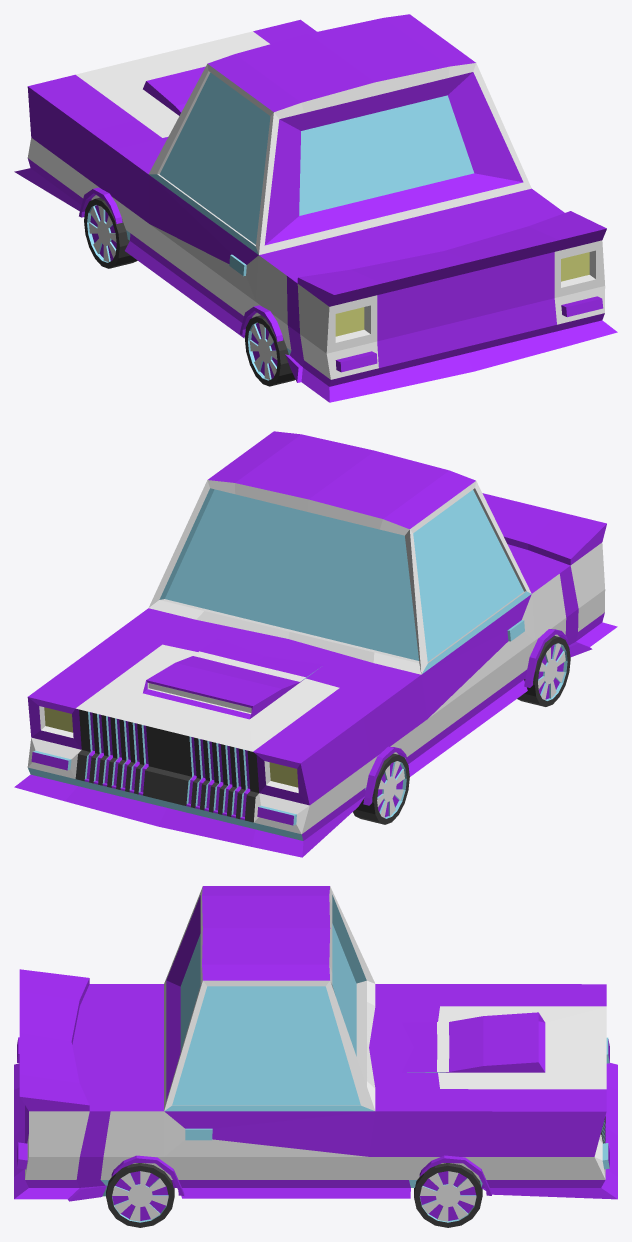
File: car_purple.fbx
The picture shows the model from 3 angles, top to bottom: view 1: azimuth 30°, elevation 25°; view 2: azimuth 150°, elevation 25°; view 3: azimuth 270°, elevation 25°; orthographic projection. The views are drawn at different scales.
Visible parts, largest first — view 1: car; view 2: car; view 3: car.
Boxes of the visible parts, box(x1,y1,x2,y2) form: car: box(14, 14, 617, 402); car: box(14, 431, 617, 857); car: box(14, 886, 617, 1227).
Size of the model in its own units: 143 by 112 by 264.
